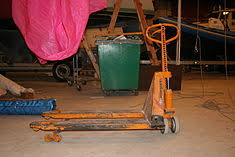Pallet Jack: (33, 23, 181, 144)
